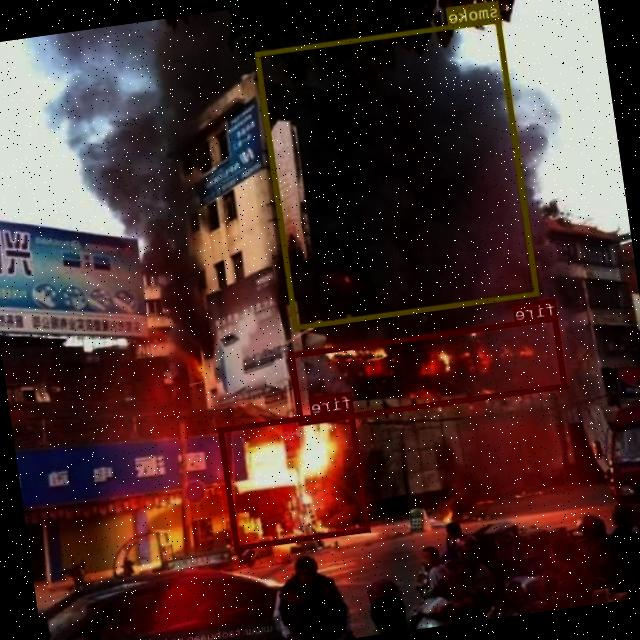fire: (290, 314, 569, 424), (218, 408, 372, 550)
smoke: (256, 17, 541, 330)
